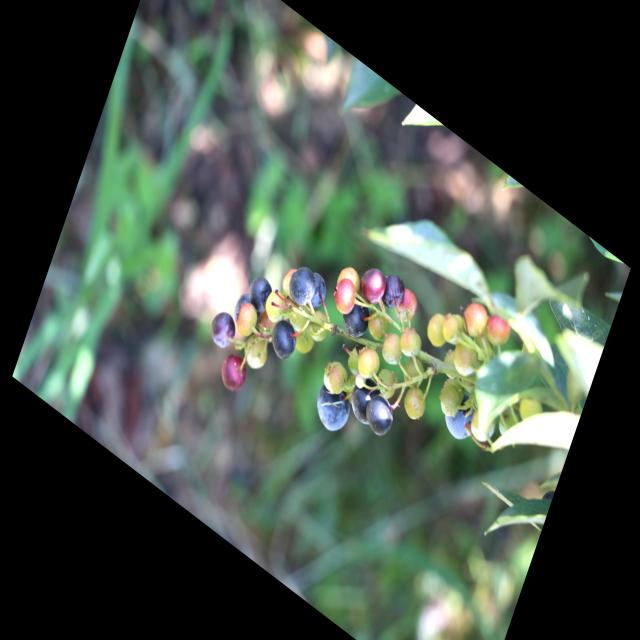blueberry: (310, 375, 355, 438), (440, 384, 482, 448), (346, 370, 384, 429), (360, 387, 399, 444), (267, 312, 302, 366), (285, 258, 320, 312), (206, 304, 241, 356), (338, 294, 372, 345), (245, 270, 275, 316), (379, 268, 407, 313), (303, 268, 330, 313), (232, 290, 260, 332)
blueberry-halfripe: (389, 281, 423, 329), (460, 296, 492, 346), (217, 347, 249, 396), (483, 307, 515, 354), (329, 273, 360, 320), (358, 263, 387, 309)
blueberry-unripe: (448, 332, 482, 384), (319, 353, 352, 403), (436, 372, 466, 422), (241, 326, 272, 374), (399, 382, 430, 428), (354, 341, 384, 387), (373, 362, 401, 406), (306, 303, 334, 347), (399, 352, 428, 394), (379, 328, 407, 371), (396, 320, 424, 362), (366, 304, 393, 346), (264, 284, 291, 326), (423, 310, 451, 350), (438, 311, 464, 351), (286, 296, 312, 336)
